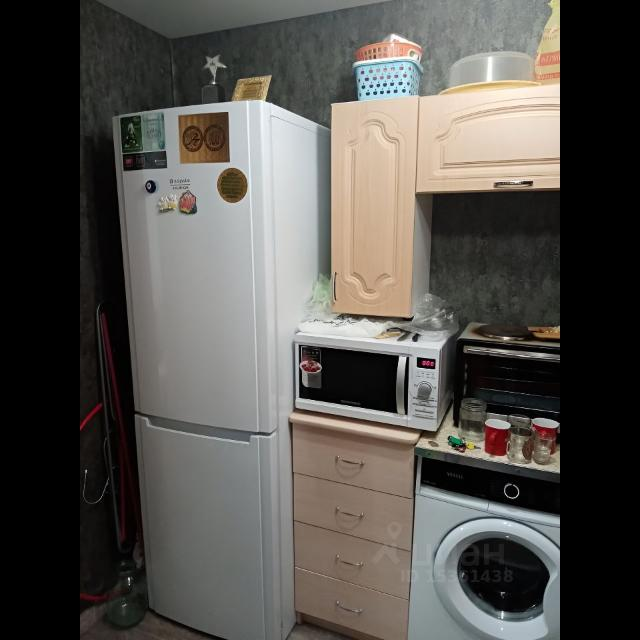Microwave: (296, 320, 460, 432)
Refrigerator: (108, 108, 330, 632)
Washing-Machine: (410, 452, 560, 640)
